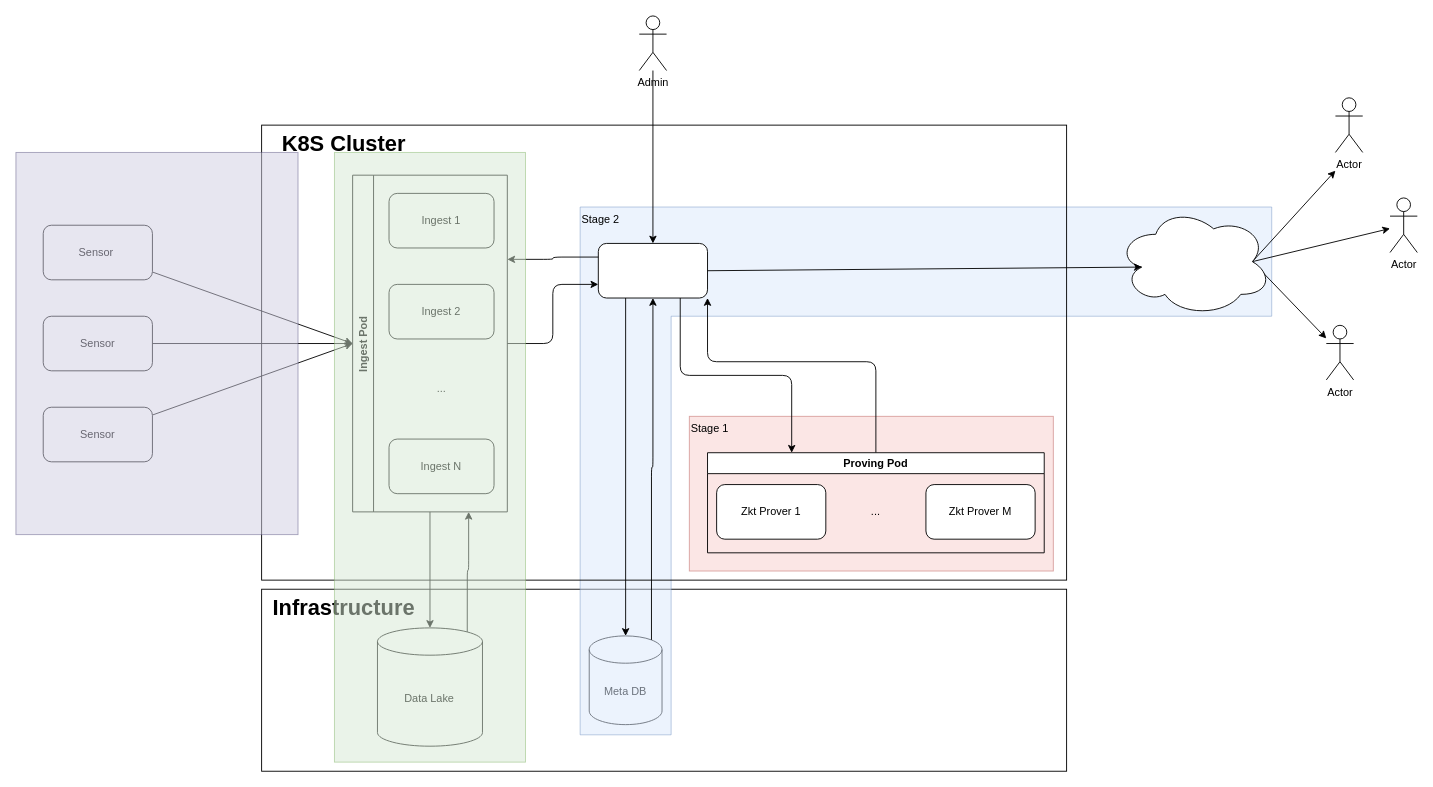
The diagram is 1433 pixels wide and 787 high, and some of its shapes have lost their labels. The centre of each missing label's shape, as x and y in pixels:
Scheduler: point (652, 270)
Smart Contract: point (1194, 261)
Stage 3: point (430, 457)
Stage 4: point (156, 343)
